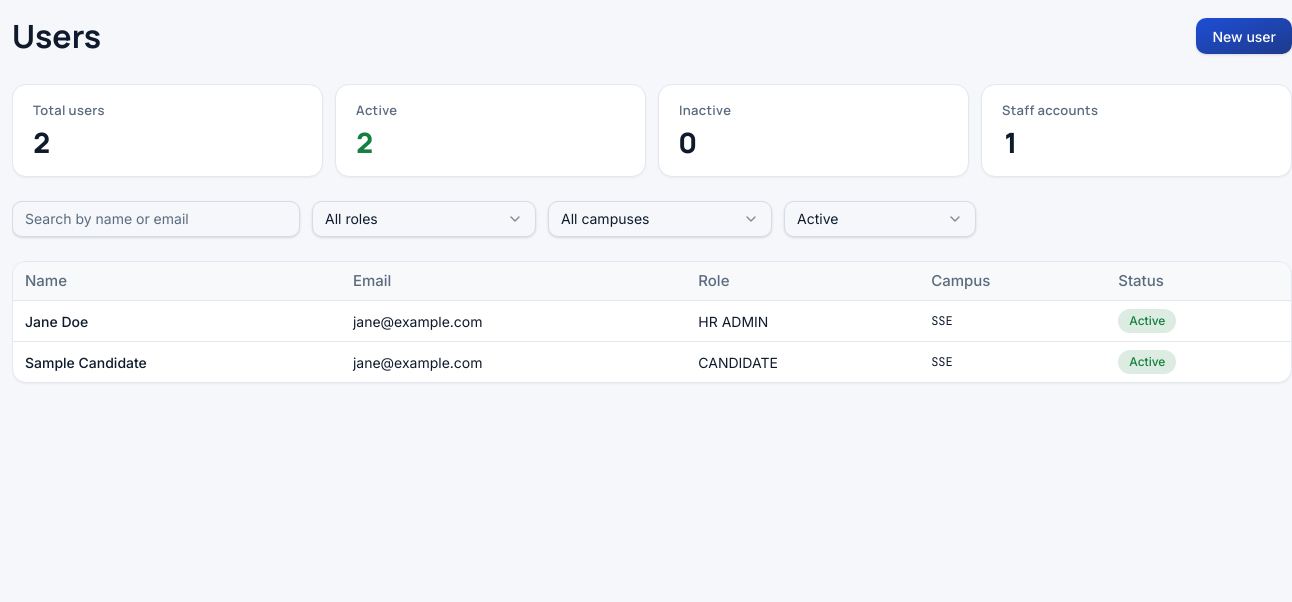
Test: UsersListPage › includes CANDIDATE in the role filter (a real seeded login account, not just staff roles)
This screenshot has width=1292, height=602.
Check: the link "Jane Doe" is shown, box [25,312,88,330]
Click the dropdown named "Role filter".
click(424, 218)  # box [312,200,536,236]
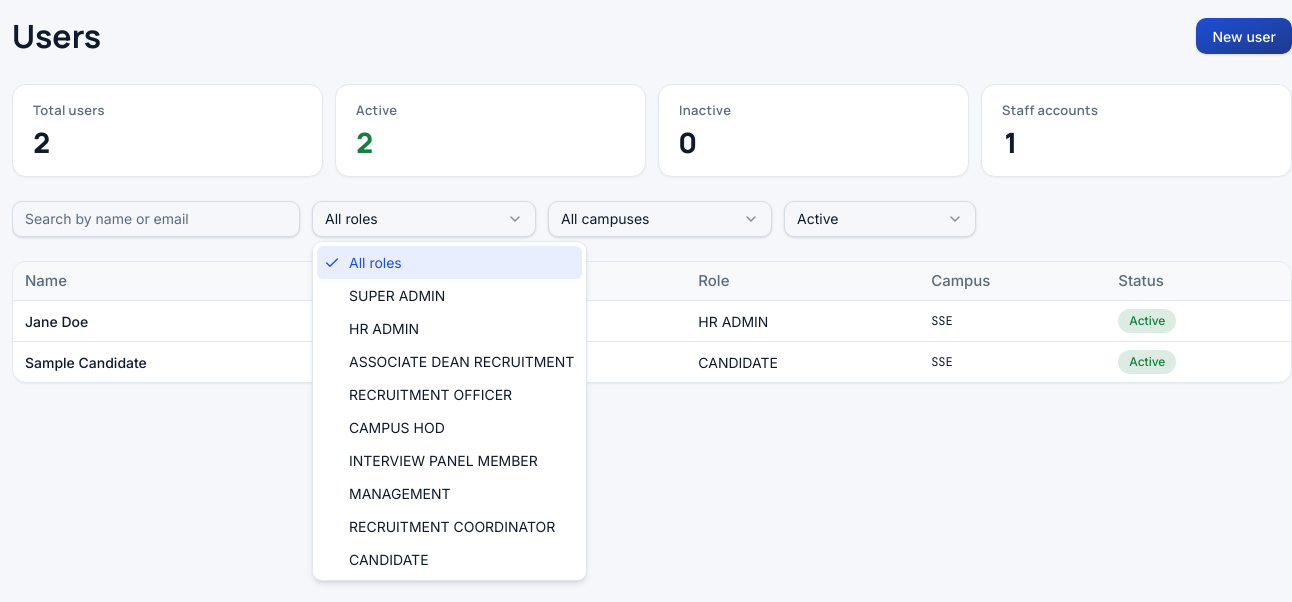
Click the option "CANDIDATE".
click(389, 560)  # box [349,551,429,568]
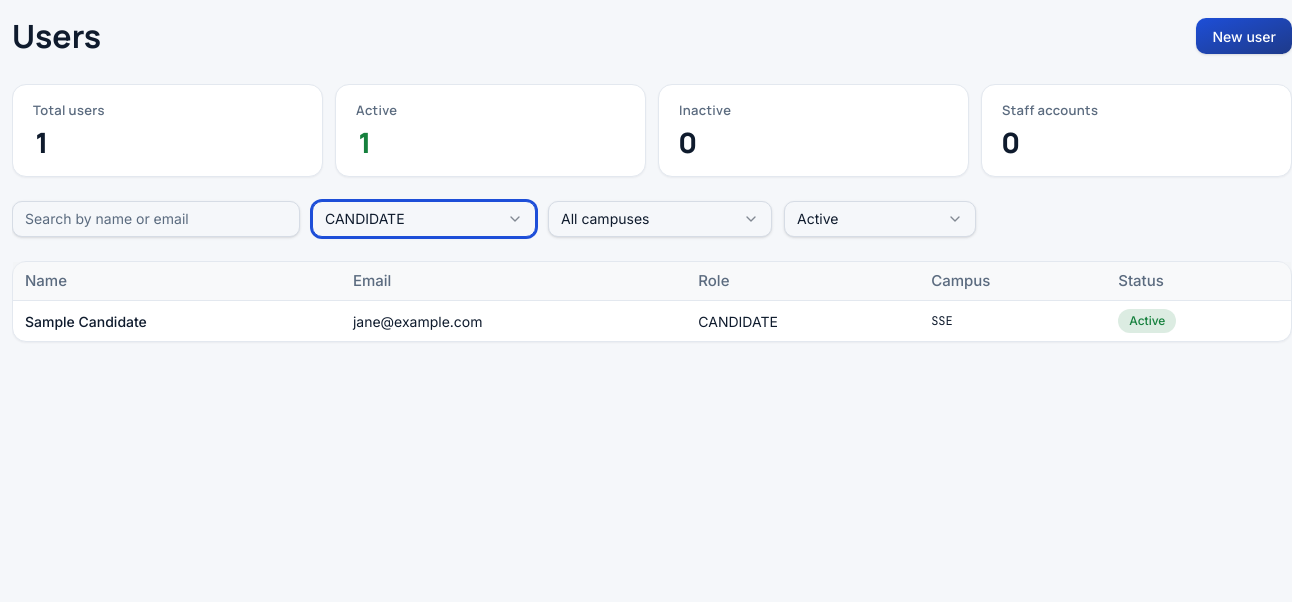
Check: the link "Sample Candidate" is shown, box [25,312,147,330]
Check: the link "Jane Doe" is gone
